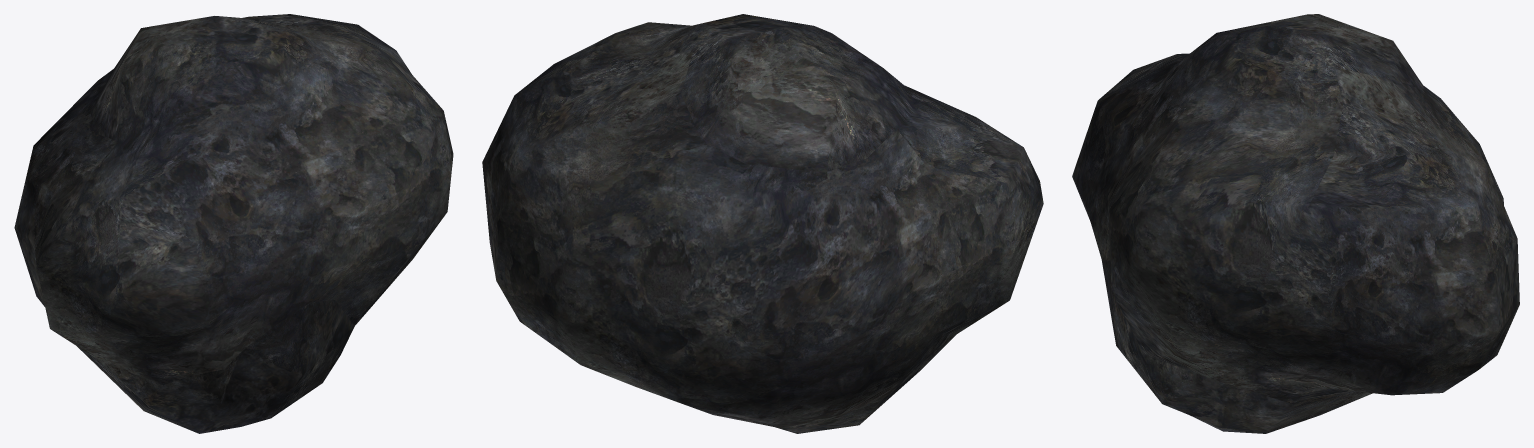
File: stg600_obj_meteoriteB03.obj
3 views of the same model, side by side, from view 1: azimuth 30°, elevation 25°; view 2: azimuth 150°, elevation 25°; view 3: azimuth 270°, elevation 25° (orthographic). The views are drawn at different scales.
Visible parts, largest first — view 1: polygon0; view 2: polygon0; view 3: polygon0.
Part boxes in pixels (x1,y1,x2,y2): polygon0: [14, 14, 453, 433]; polygon0: [482, 14, 1043, 433]; polygon0: [1072, 14, 1519, 433].
Bounding box in the file's own units: 155 × 132 × 132.
Materials: 1 (1 with a texture image).
